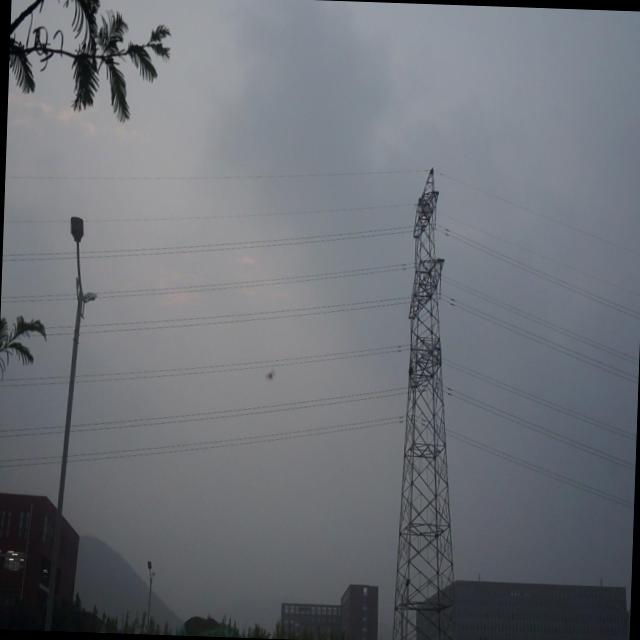drone: (260, 364, 280, 386)
